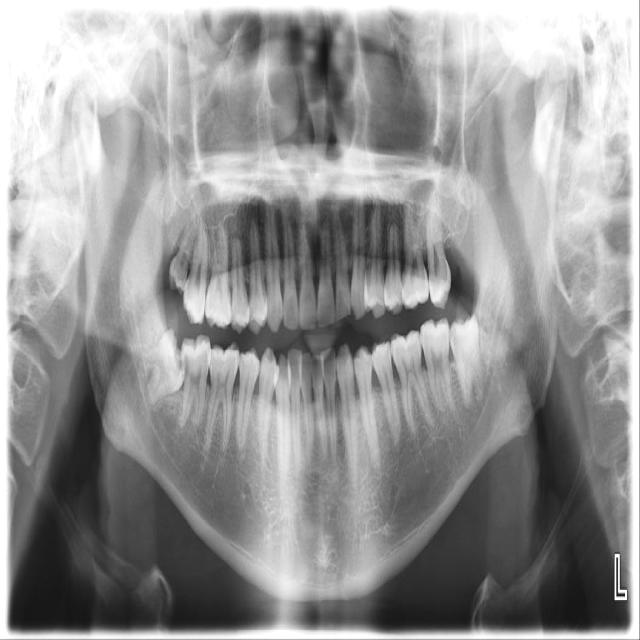impacted tooth: (449, 313, 490, 407)
